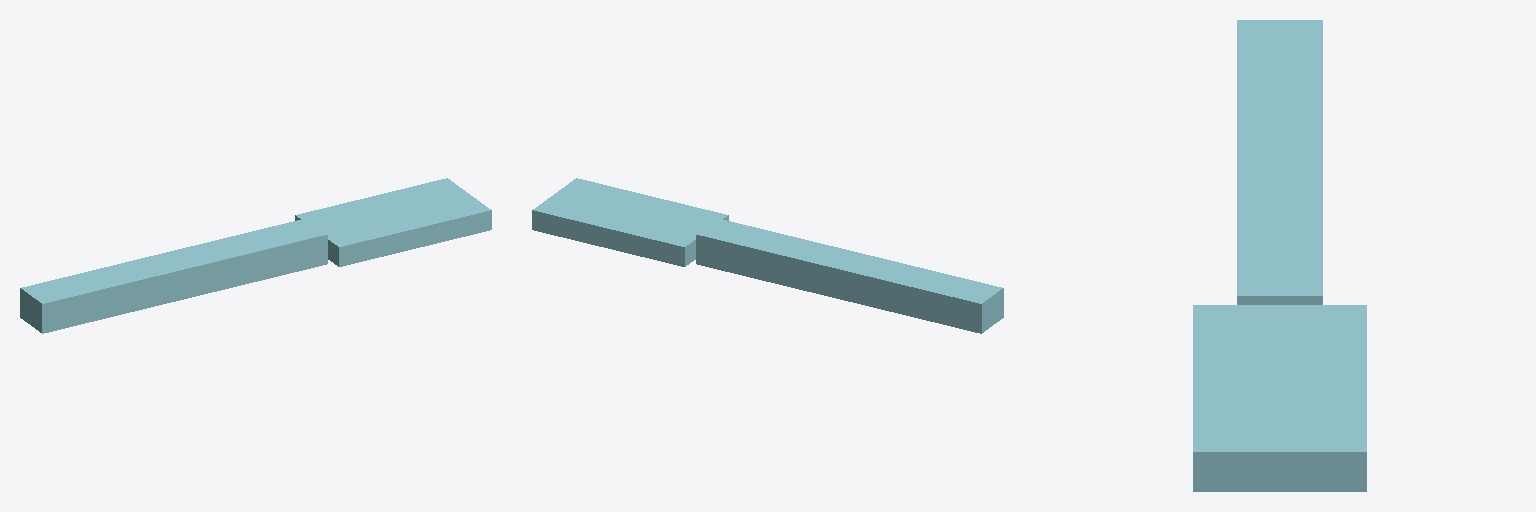
The robot description file, URDF, robot "primitive_small_spatula":
<?xml version="1.0"?>
<robot name="primitive_small_spatula">

  <link name="primitive_small_spatula">
    <!-- Handle -->
    <visual>
      <origin xyz="0 0 0" rpy="0 0 0"/>
      <geometry>
        <box size="0.15 0.02 0.015"/>
      </geometry>
      <material name="material">
        <color rgba="0.639 0.847 0.882 1.0"/>
      </material>
    </visual>
    <collision>
      <origin xyz="0 0 0" rpy="0 0 0"/>
      <geometry>
        <box size="0.15 0.02 0.015"/>
      </geometry>
    </collision>

    <!-- Head -->
    <visual>
      <origin xyz="0.11499999999999999 0 0" rpy="0 0 0"/>
      <geometry>
        <box size="0.08 0.04 0.01"/>
      </geometry>
      <material name="material">
        <color rgba="0.639 0.847 0.882 1.0"/>
      </material>
    </visual>
    <collision>
      <origin xyz="0.11499999999999999 0 0" rpy="0 0 0"/>
      <geometry>
        <box size="0.08 0.04 0.01"/>
      </geometry>
    </collision>

    <inertial>
      <density value="400.0"/>
    </inertial>
  </link>

</robot>

--- Facts derived from the render (not from the file) ---
Views: 3 orthographic renders of the robot side by side, from view 1: azimuth 30°, elevation 25°; view 2: azimuth 150°, elevation 25°; view 3: azimuth 270°, elevation 25°.
Robot: primitive_small_spatula — 1 links, 0 joints (none); root link primitive_small_spatula; default pose: all joints at 0.
Visible links, largest first — view 1: primitive_small_spatula; view 2: primitive_small_spatula; view 3: primitive_small_spatula.
Link boxes in pixels (left/top/right/bottom): primitive_small_spatula: left=20, top=178, right=491, bottom=333; primitive_small_spatula: left=532, top=178, right=1003, bottom=333; primitive_small_spatula: left=1193, top=20, right=1366, bottom=491.
Size in the robot's own frame: 0.23 by 0.04 by 0.015 metres.
Geometry: primitives only (box / cylinder / sphere), no mesh files.
